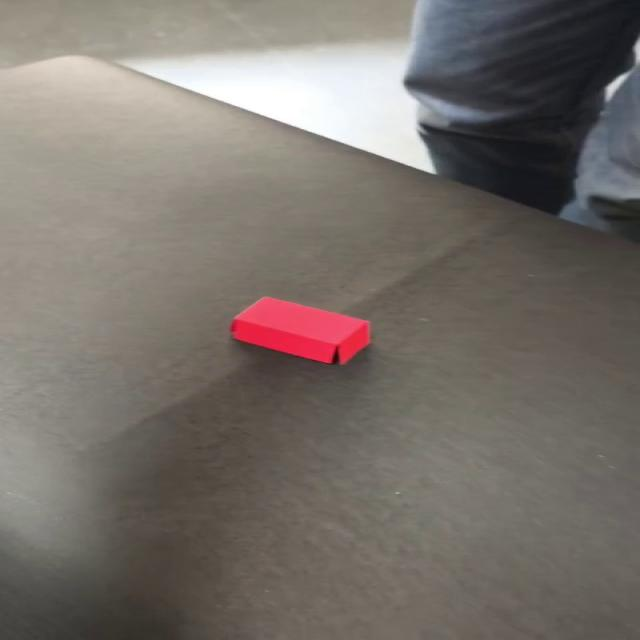red block: (229, 295, 371, 365)
